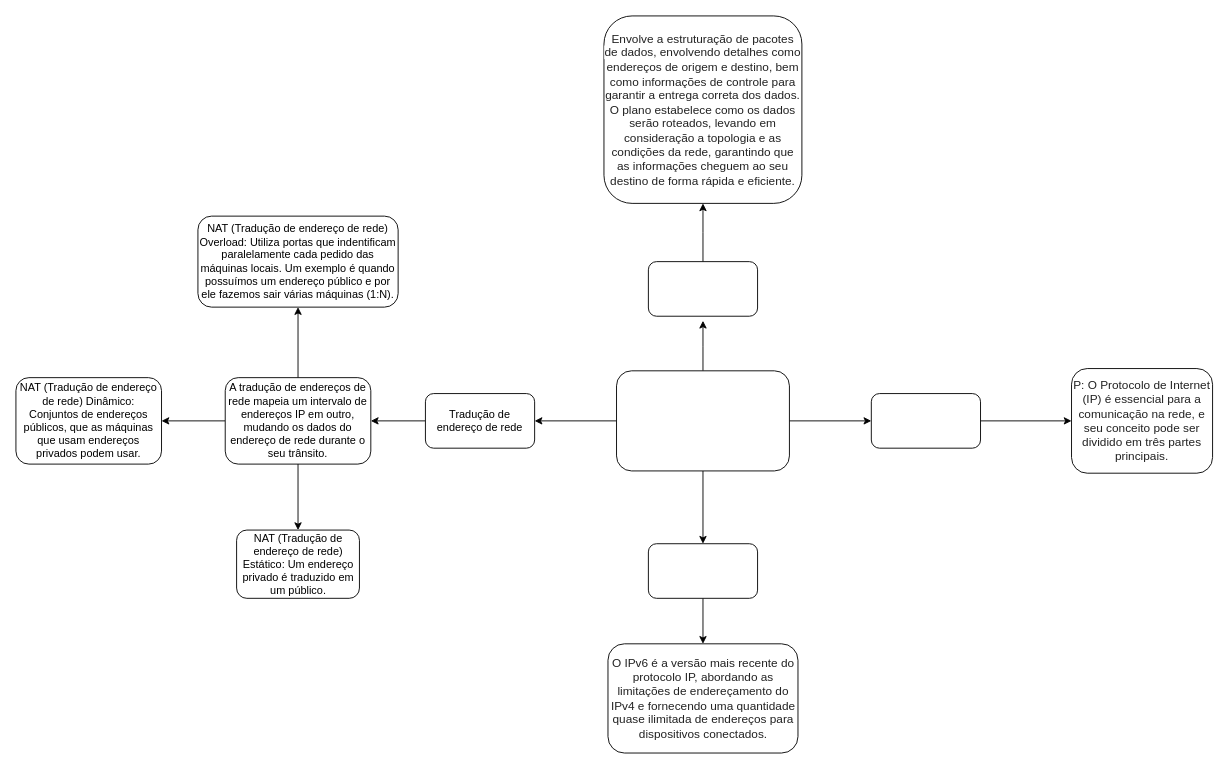
Image size: 1229x769. Some labels were removed from this diagram. Here are the shapes that lost their labels. From the top down, the box of each, then its label:
(647, 261, 758, 316): Plano de Dados
(616, 370, 789, 471): Camada de Redes
(870, 393, 981, 448): IP
(647, 543, 758, 598): IPV6
